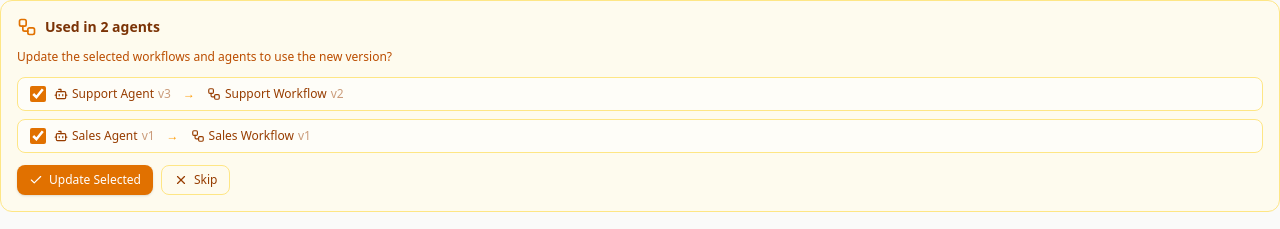
Test case: UpdateUsageDialog › disables confirm button when no items selected
Click the checkbox with test id "usage-checkbox-0": (38, 94) 30,86 -> 46,102
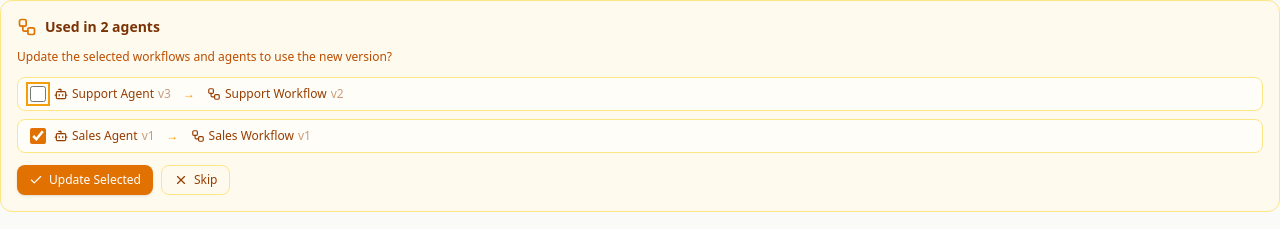
Click the checkbox with test id "usage-checkbox-1": (38, 136) 30,128 -> 46,144
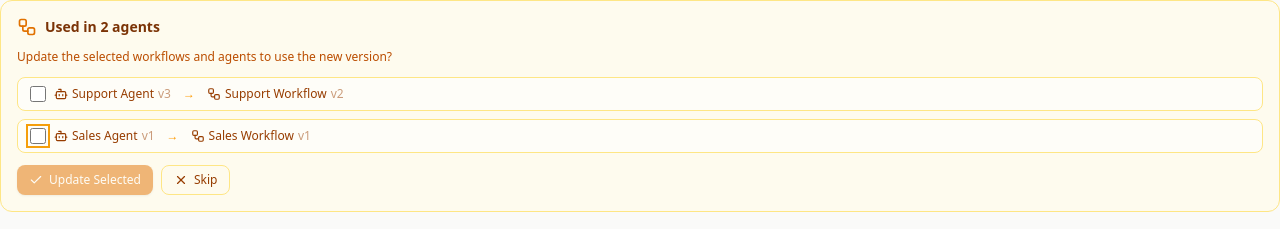
Now the button with test id "confirm-cascade-btn" is disabled, box 17,165 -> 153,195
